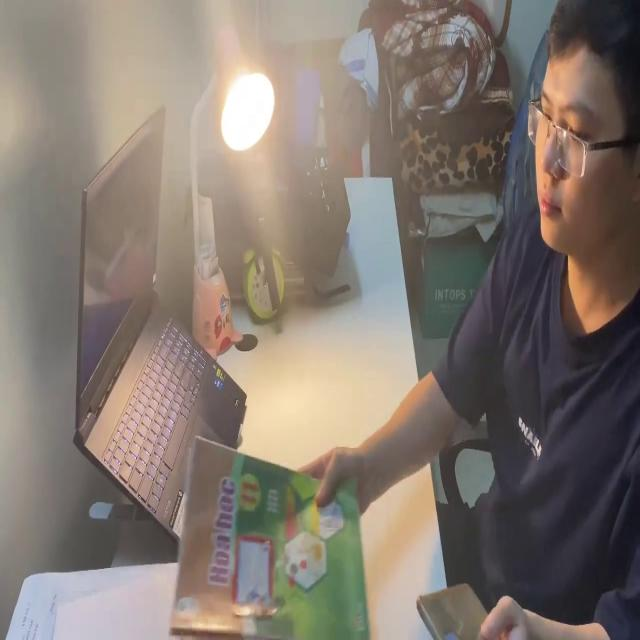book: (170, 424, 372, 640), (1, 554, 184, 640)
laptop: (71, 97, 248, 548)
phone: (416, 575, 496, 640)
student: (289, 0, 640, 640)
